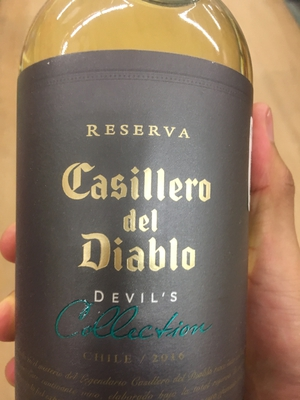casillero del diablo devils collection verde: (15, 11, 253, 400)
